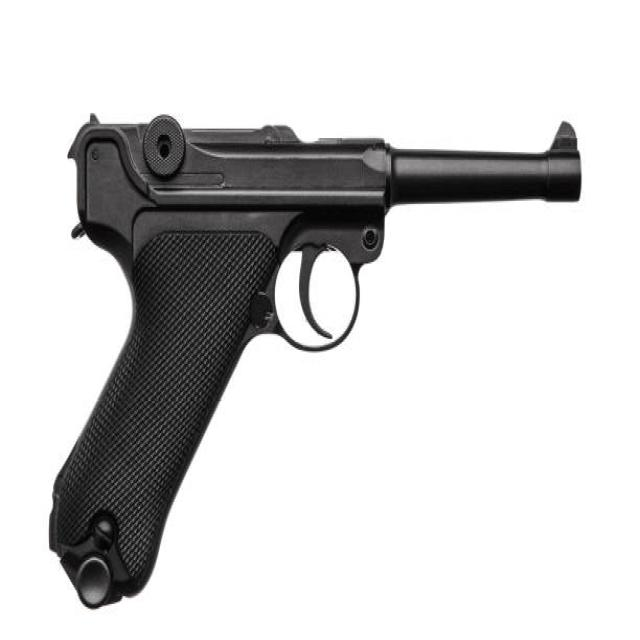pistol: (40, 109, 593, 619)
